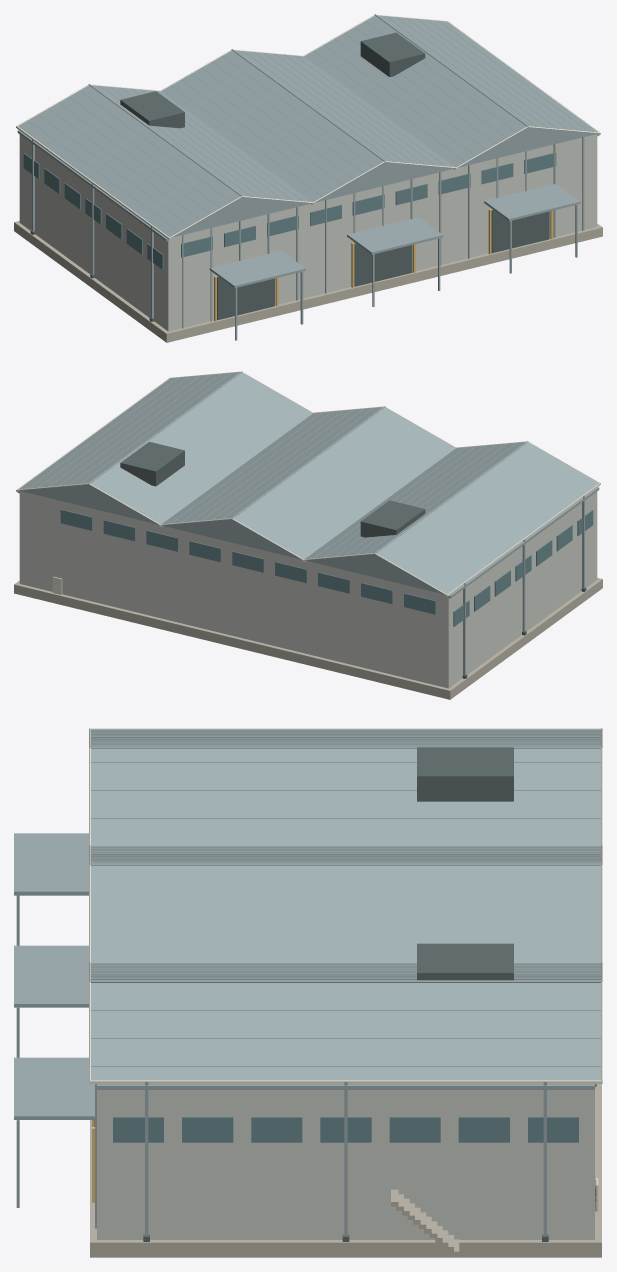
The picture shows the model from 3 angles, top to bottom: view 1: azimuth 30°, elevation 25°; view 2: azimuth 150°, elevation 25°; view 3: azimuth 270°, elevation 25°; orthographic projection. The views are drawn at different scales.
Size of the model in its own units: 62.65 by 17.5 by 42.58.
